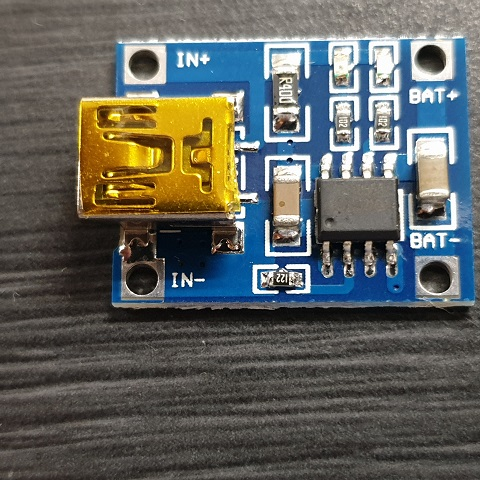batt+: (416, 38, 448, 79)
batt-: (412, 254, 445, 298)
charge: (332, 42, 360, 94)
done: (366, 42, 390, 94)
rprog: (260, 266, 304, 294)
usb: (74, 96, 241, 218)
